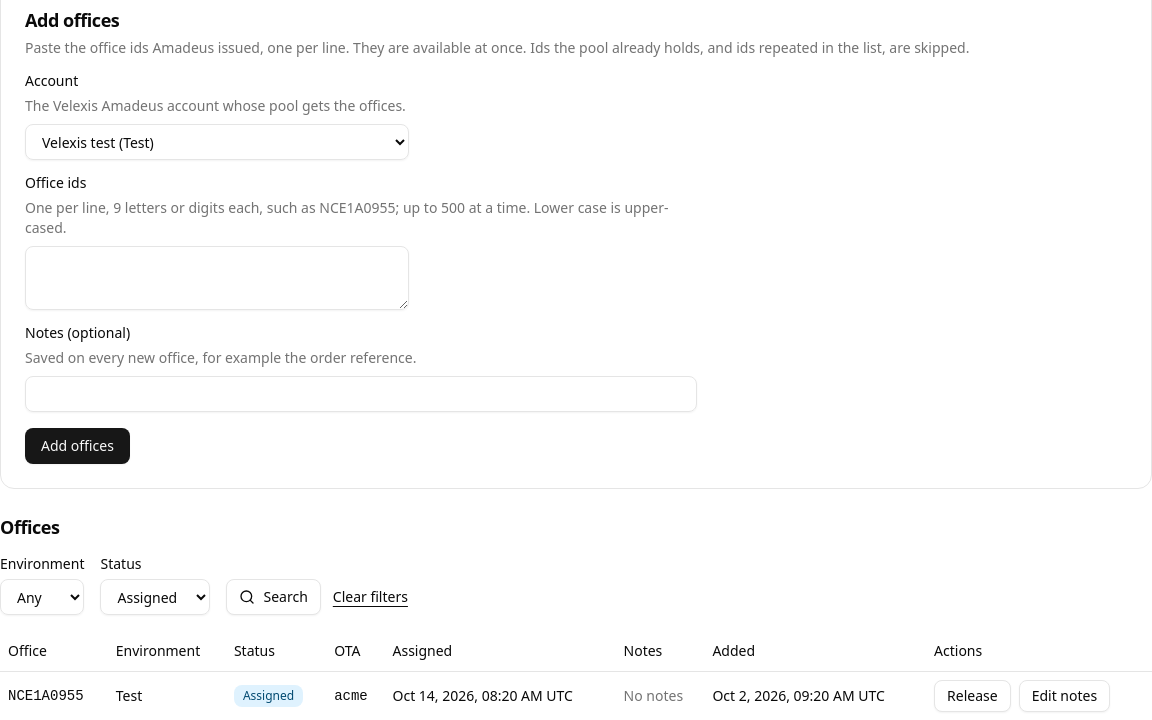
Test case: amadeus/offices/page.tsx: the office pool › keeps the notes dialog open, with no earlier outcome, while a step-up is asked for after an earlier save
(page scrolled)
Click the button named "Edit notes of office NCE1A0955" at (1064, 696), box [1019,680,1110,712]
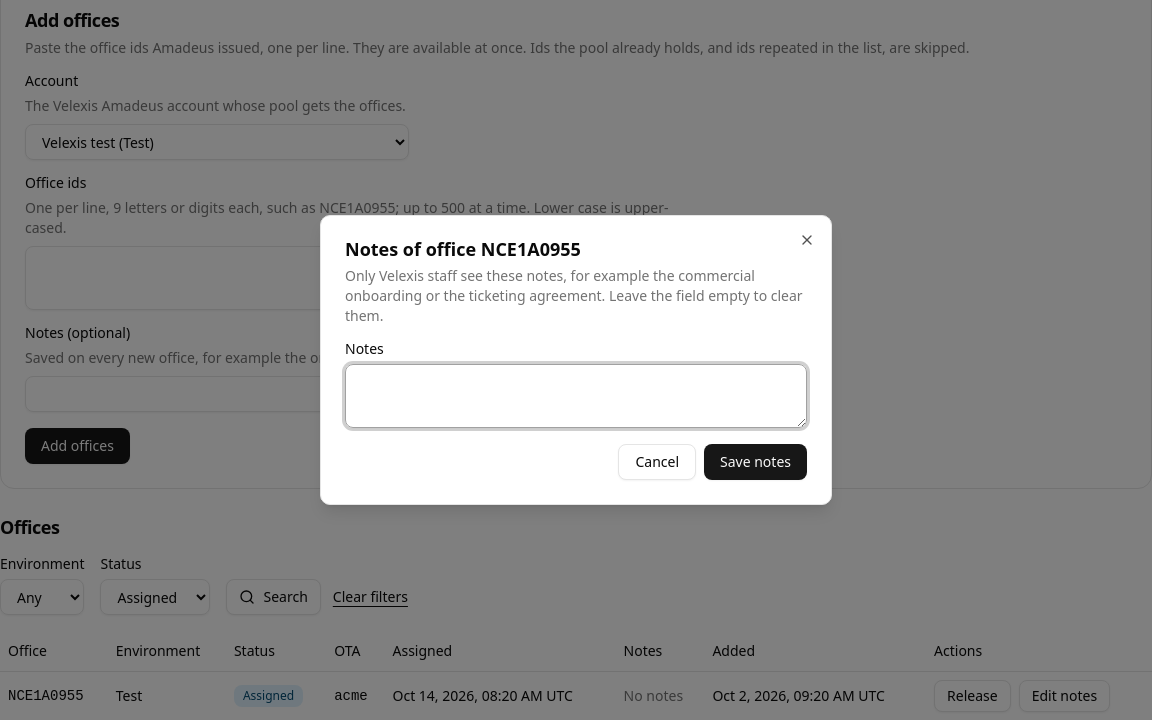
Type "First." into the text box labelled "Notes" at (576, 396), box [345,364,807,428]
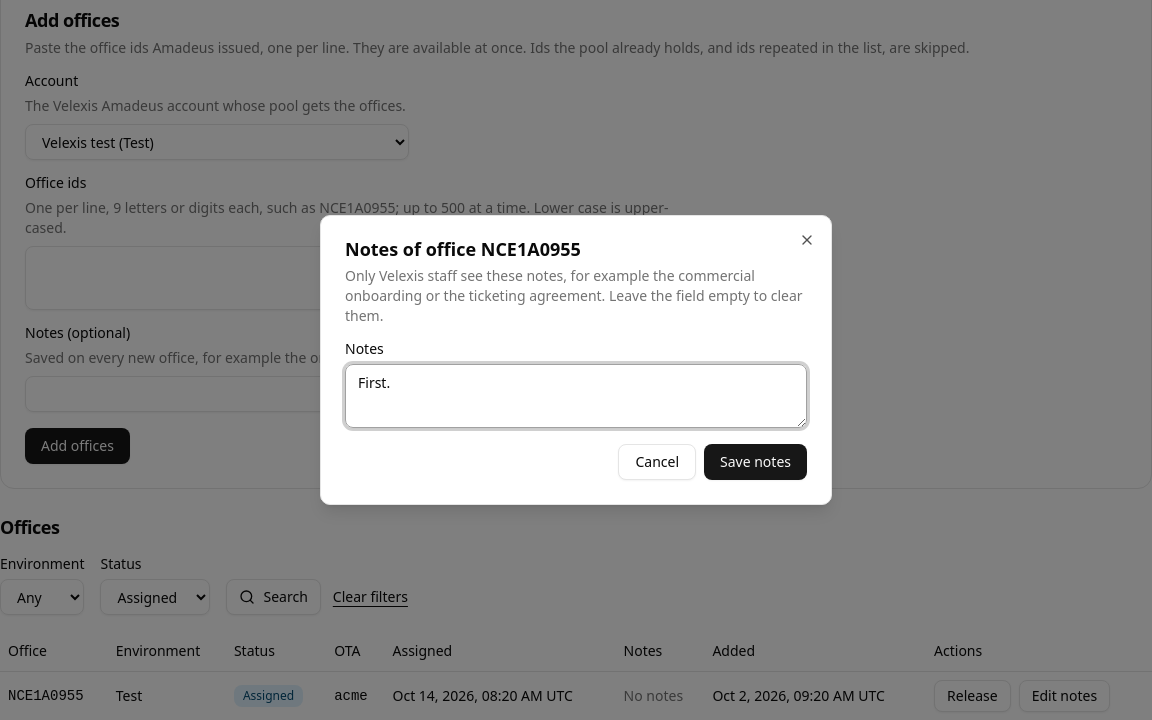
Submit the form, box [345,342,807,480]
(page scrolled)
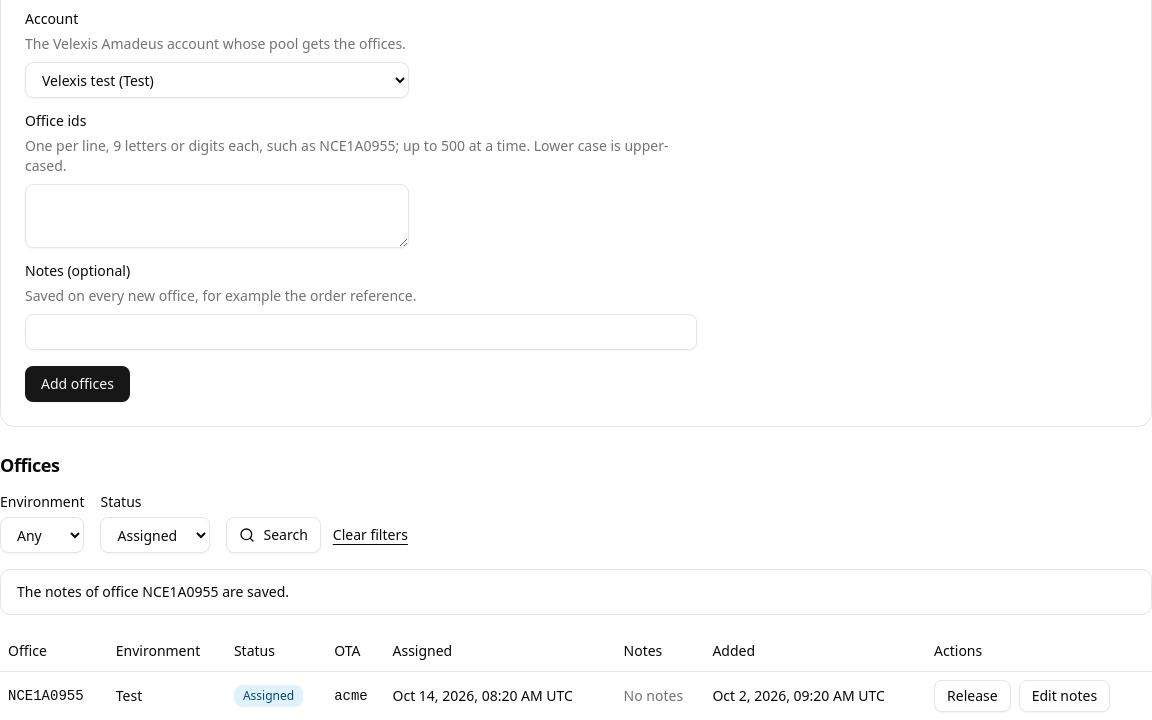
Click the button named "Edit notes of office NCE1A0955" at (1064, 696), box [1019,680,1110,712]
(page scrolled)
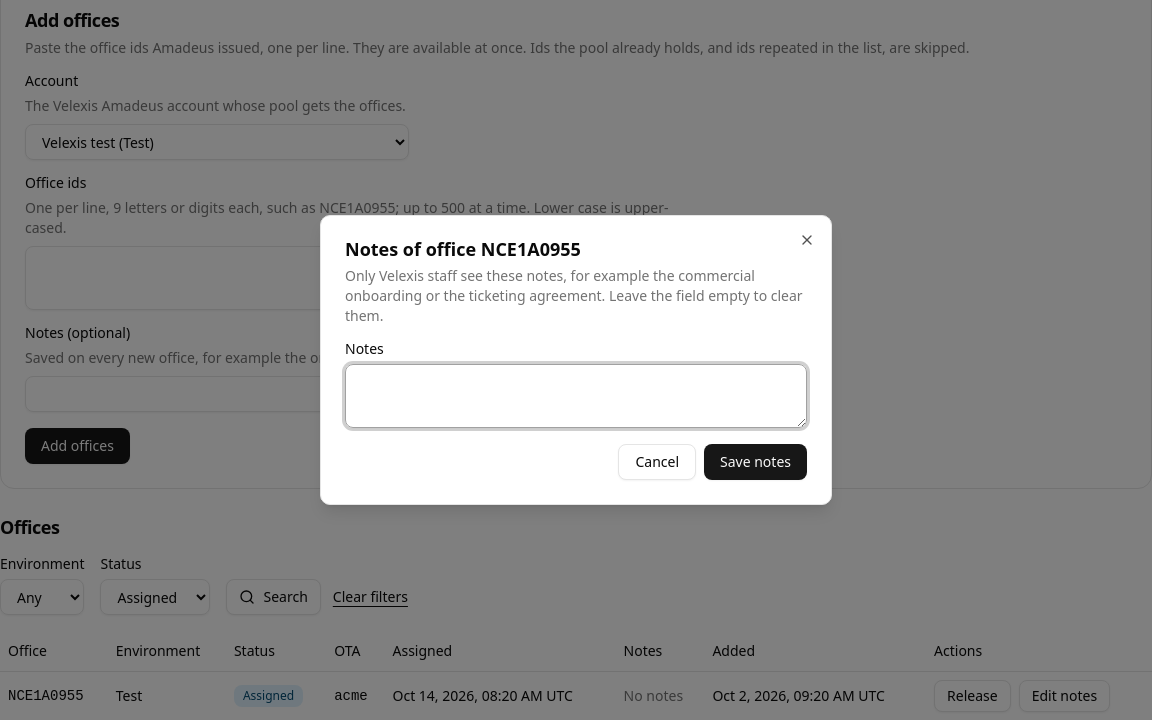
Type "Second." into the text box labelled "Notes" at (576, 396), box [345,364,807,428]
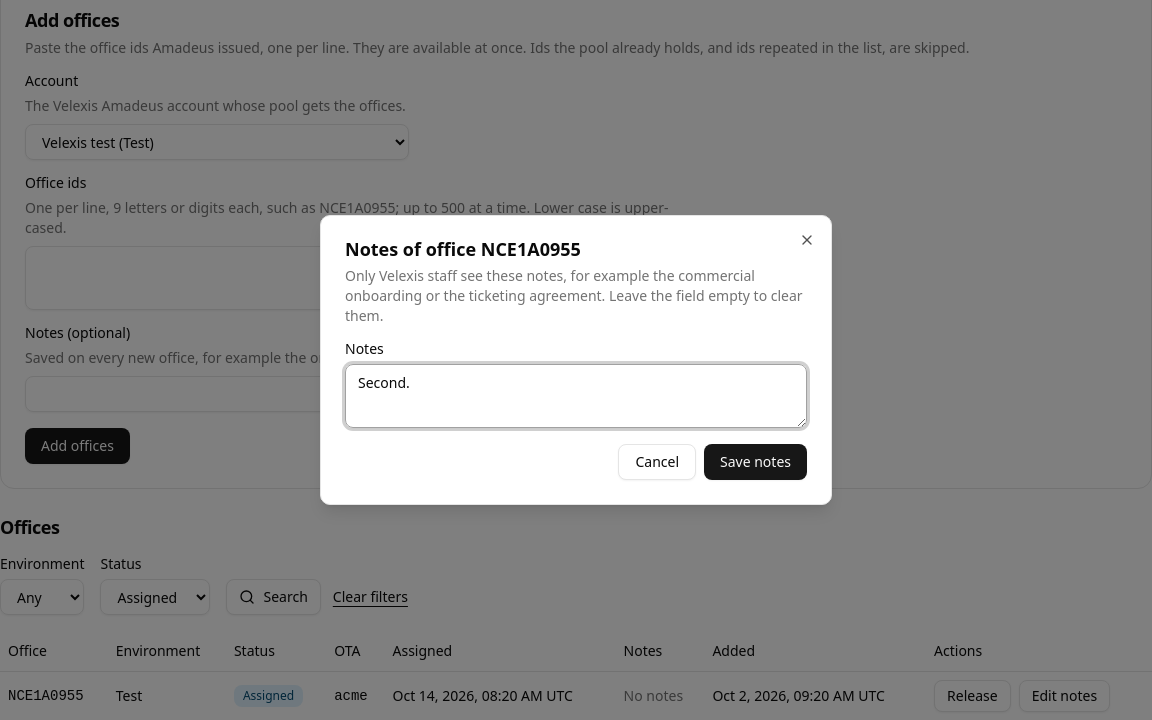
Submit the form, box [345,342,807,480]
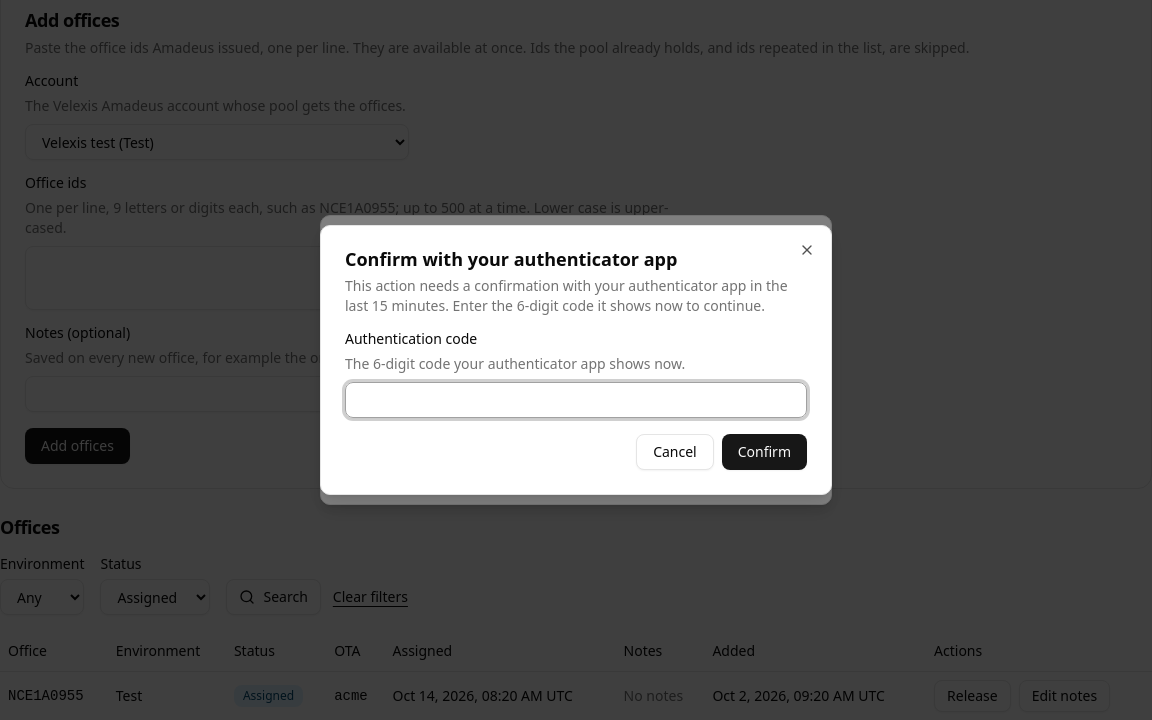
Expected: the dialog "Confirm with your authenticator app" is shown, [320,225,832,495]
